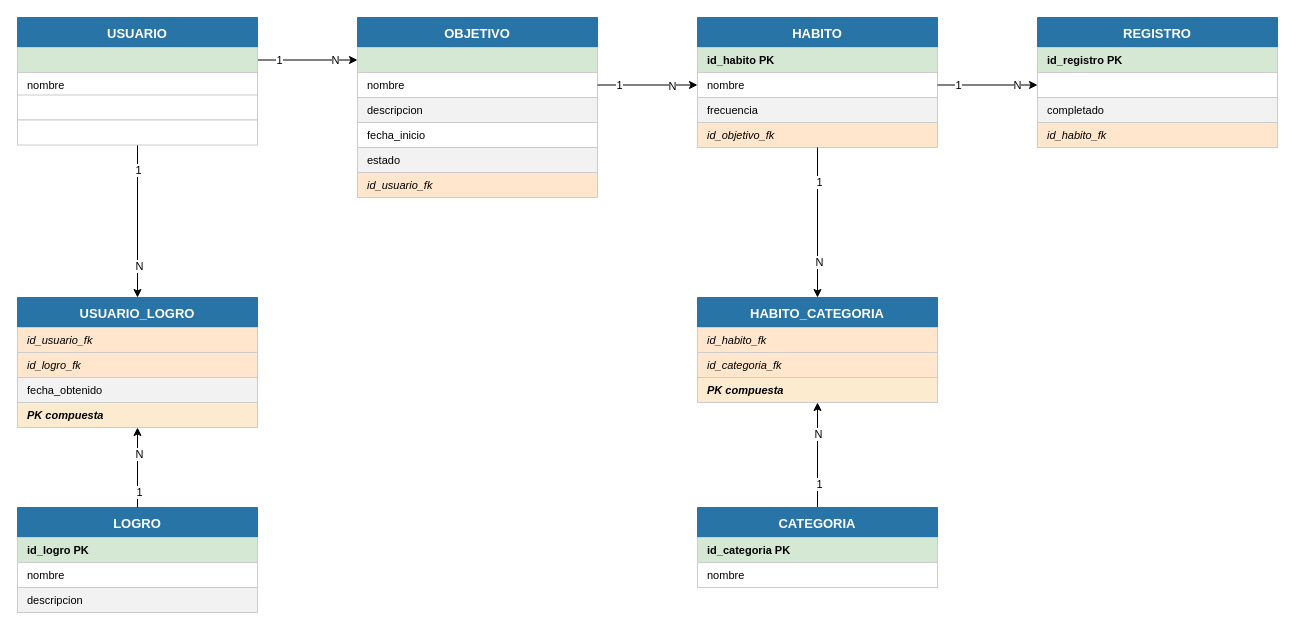
Some shapes in this 1295 by 630 pixel diagram are drawn without their labels. The shapes that lost their labels are listed below. From the top down, each one's centre as x and y in pixels, then its label:
[137,59]: id_usuario PK
[477,59]: id_objetivo PK
[1157,85]: fecha
[137,107]: email
[137,132]: contrasena
